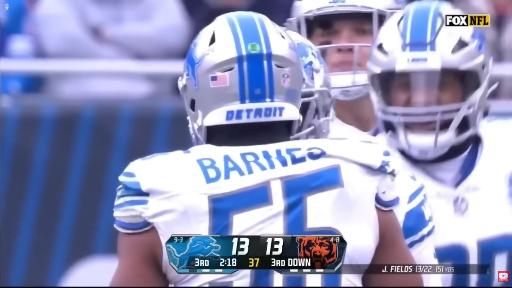Helmet: (368, 0, 491, 160), (178, 12, 302, 144), (286, 30, 333, 139), (286, 0, 402, 37)
Jersey: (114, 140, 419, 286), (406, 120, 511, 286), (394, 186, 437, 264)
Player: (112, 12, 422, 286), (368, 0, 511, 286), (287, 0, 400, 133), (284, 28, 334, 139), (395, 191, 437, 264)
